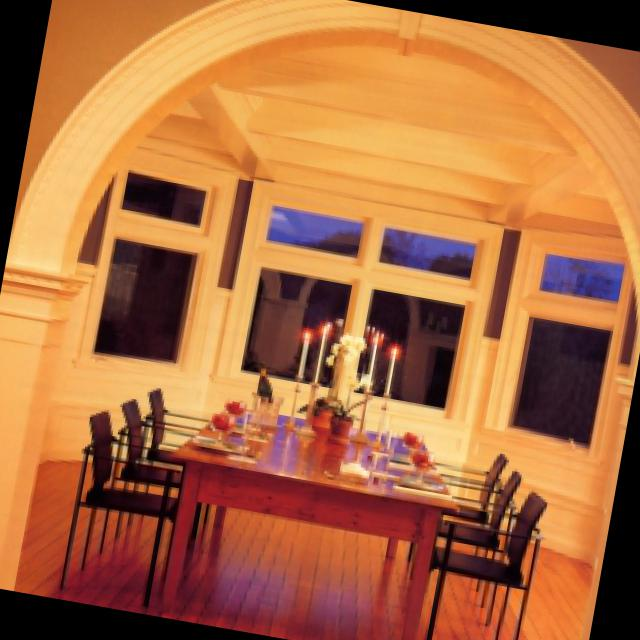2001: (239, 199, 479, 408), (499, 246, 625, 446), (89, 164, 209, 363)
bottle crop: (251, 359, 271, 400)
bouquet: (301, 331, 362, 430)
candle holder: (347, 328, 379, 439), (282, 324, 311, 424), (302, 318, 328, 422), (381, 337, 397, 392)
ceiling beam: (140, 42, 617, 235)
chair -occluded-: (57, 406, 181, 602), (422, 489, 544, 640), (447, 470, 518, 523), (118, 398, 175, 459), (140, 385, 197, 442), (433, 453, 503, 488)
glass ceiling: (359, 451, 385, 476), (209, 410, 231, 439), (409, 450, 429, 480)
plate food: (187, 436, 247, 453), (377, 449, 420, 464)
table -X: (158, 399, 453, 640)
